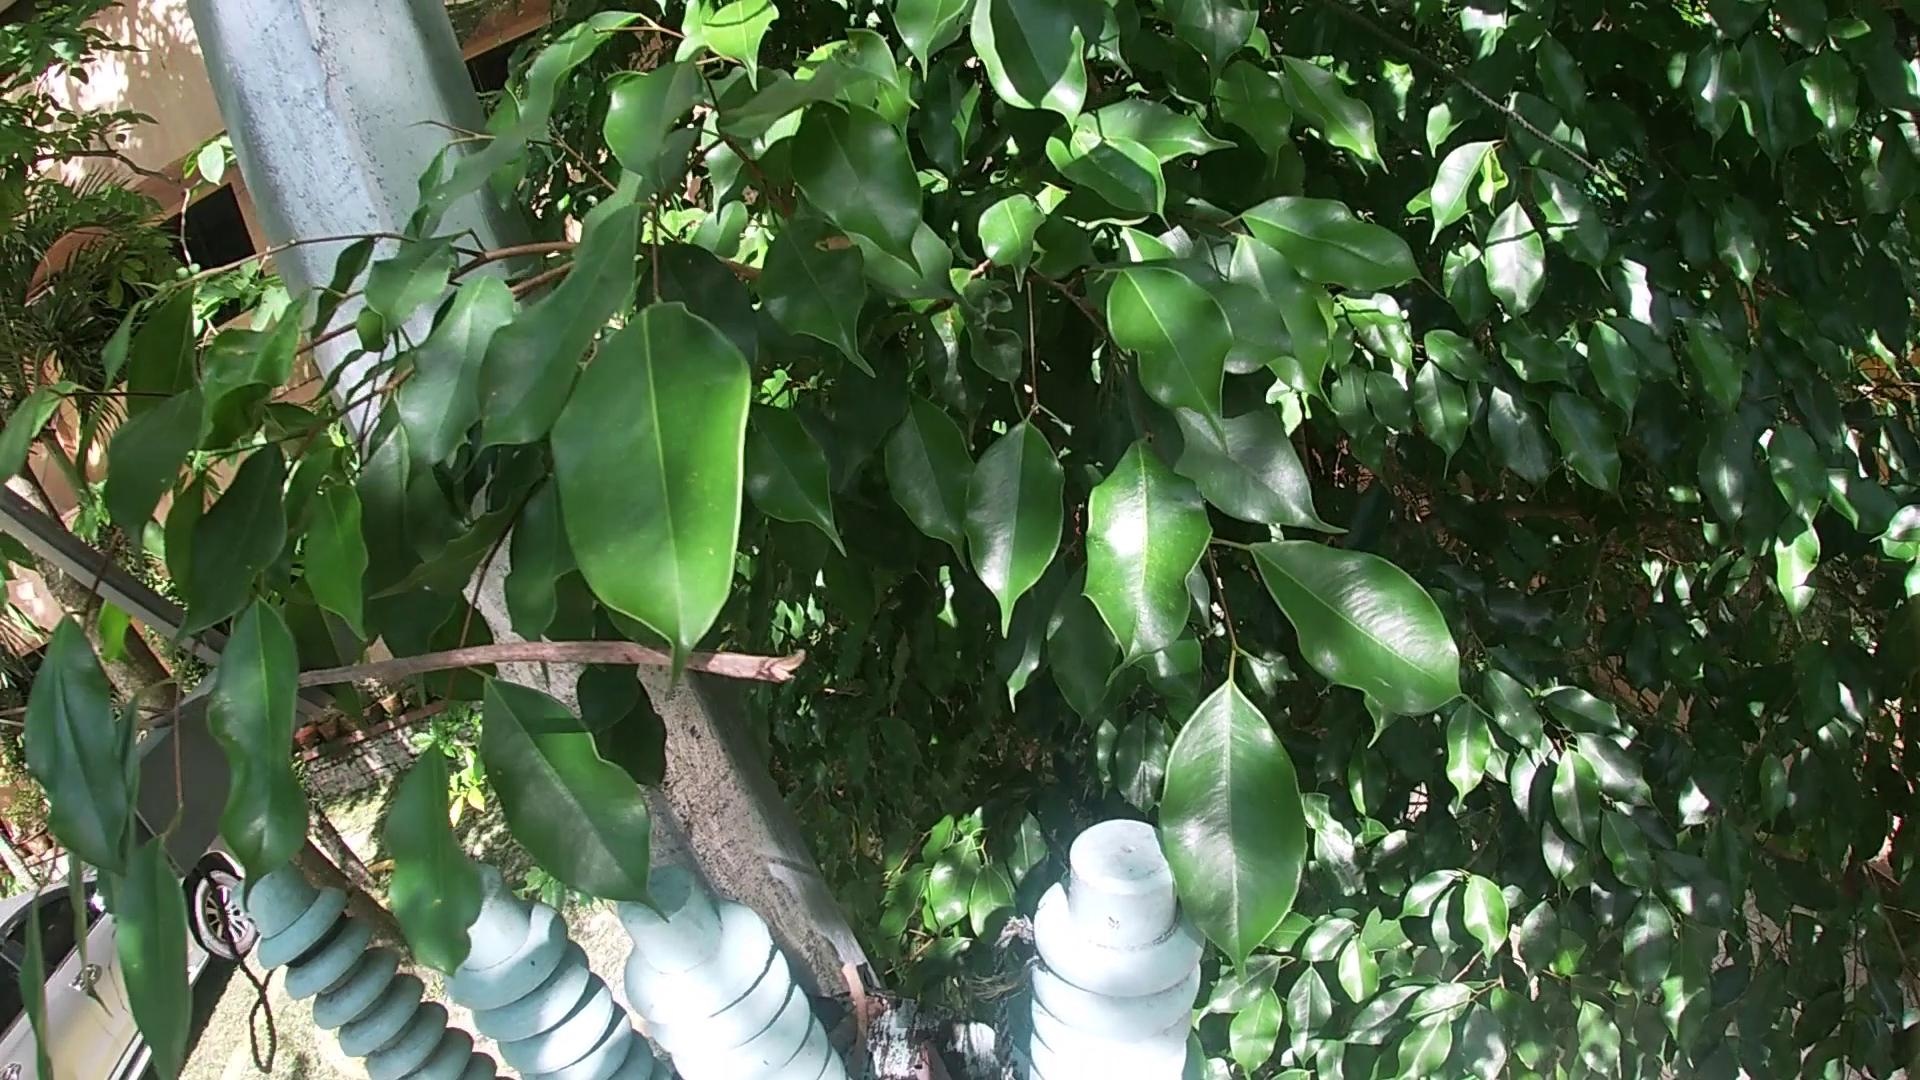tree branch: (1, 583, 898, 895), (833, 955, 869, 1071), (824, 1000, 890, 1052), (905, 1029, 961, 1080)
